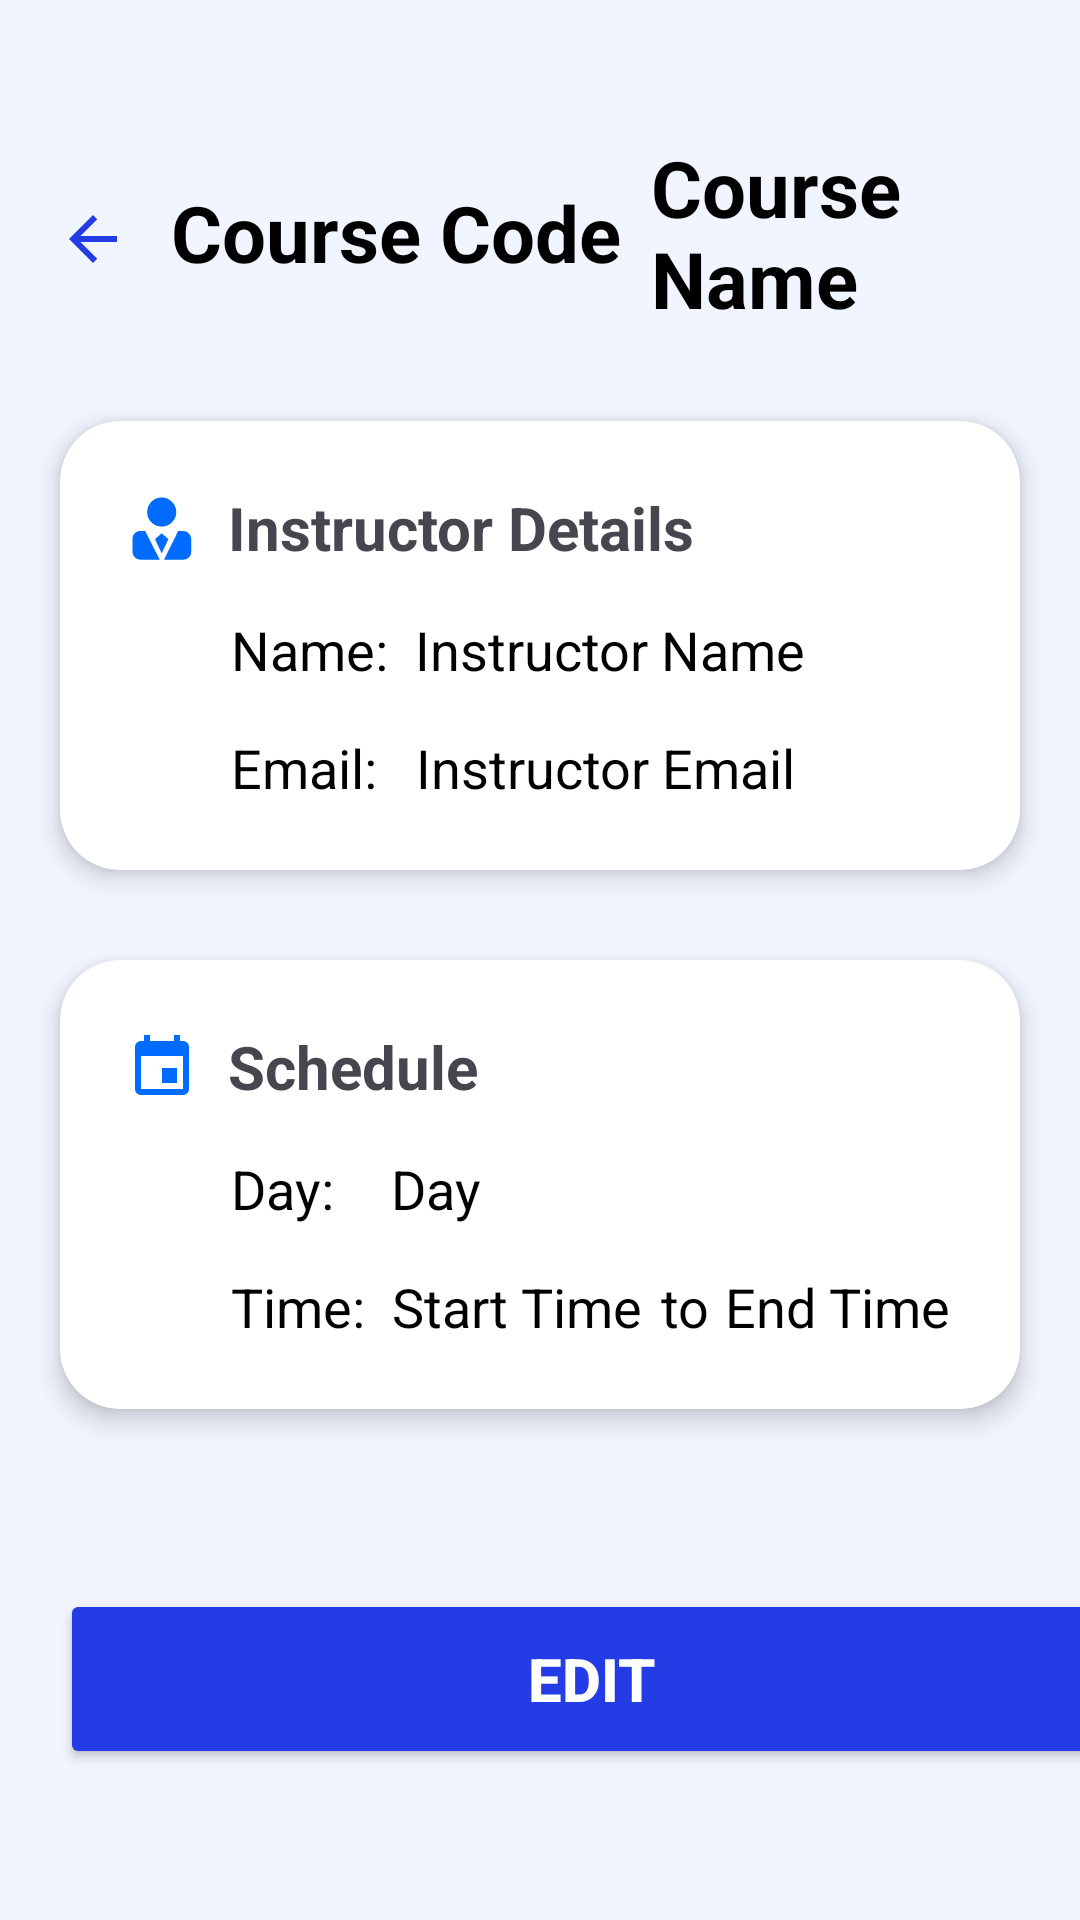

Locate icon controls on the screen. Image size 1080w x 1920h, boxes as (x1, y1, x2, y2).
arrow back: (69, 215, 117, 263)
event: (135, 1035, 189, 1095)
teacher: (132, 497, 192, 560)
